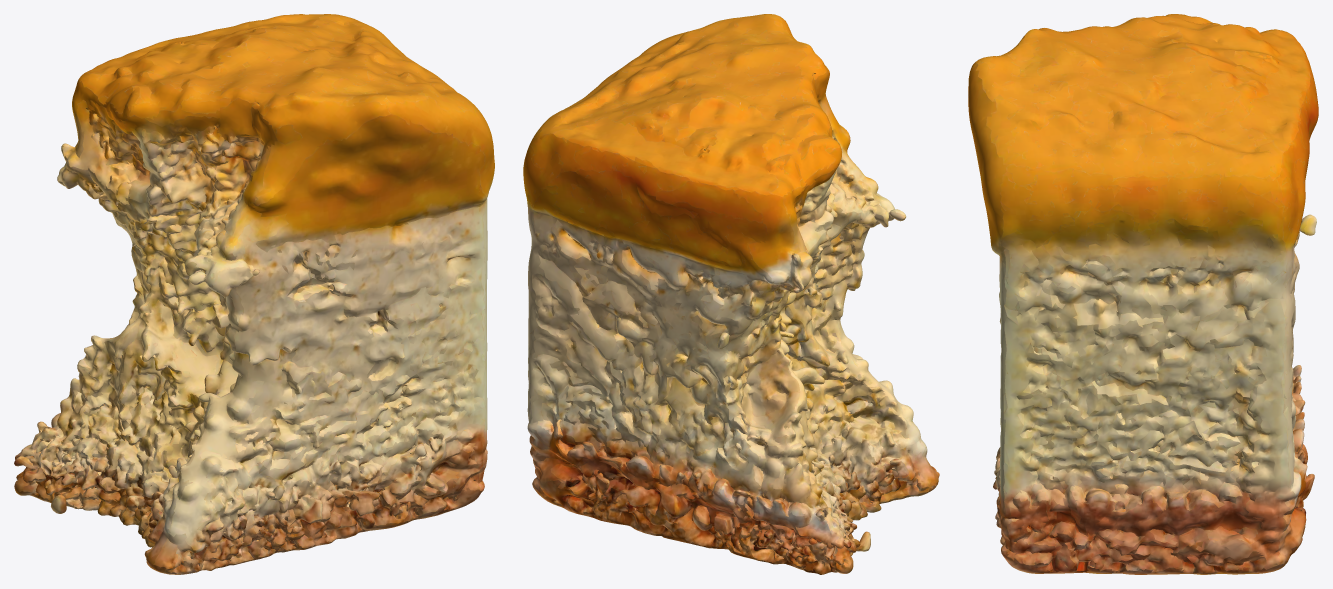
3 views of the same model, side by side, from view 1: azimuth 30°, elevation 25°; view 2: azimuth 150°, elevation 25°; view 3: azimuth 270°, elevation 25° (orthographic). The views are drawn at different scales.
Parts seen in each view (by area): view 1: FoodRedoV2Alignment-0; view 2: FoodRedoV2Alignment-0; view 3: FoodRedoV2Alignment-0.
Boxes of the visible parts, bbox=[...] form: FoodRedoV2Alignment-0: bbox=[14, 14, 494, 574]; FoodRedoV2Alignment-0: bbox=[523, 14, 939, 574]; FoodRedoV2Alignment-0: bbox=[968, 14, 1318, 574].
Bounding box in the file's own units: 0.0612 × 0.074 × 0.0504.
1 material, 1 textured.
